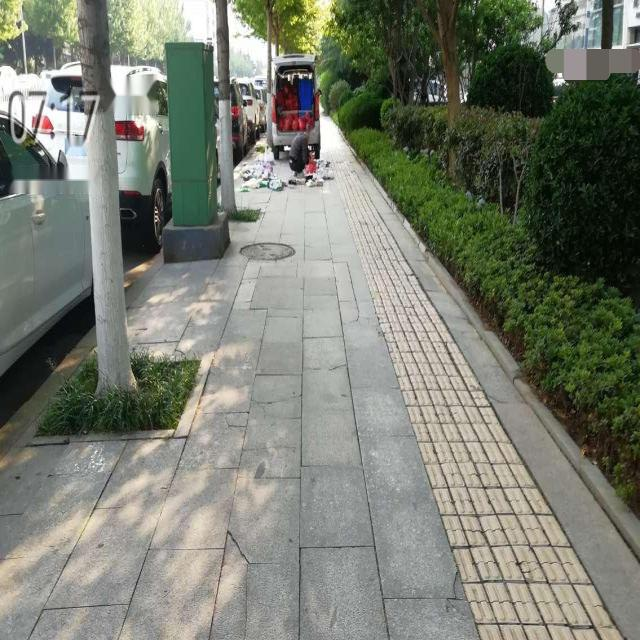fixed_stall: (239, 142, 334, 191), (270, 74, 316, 135)
